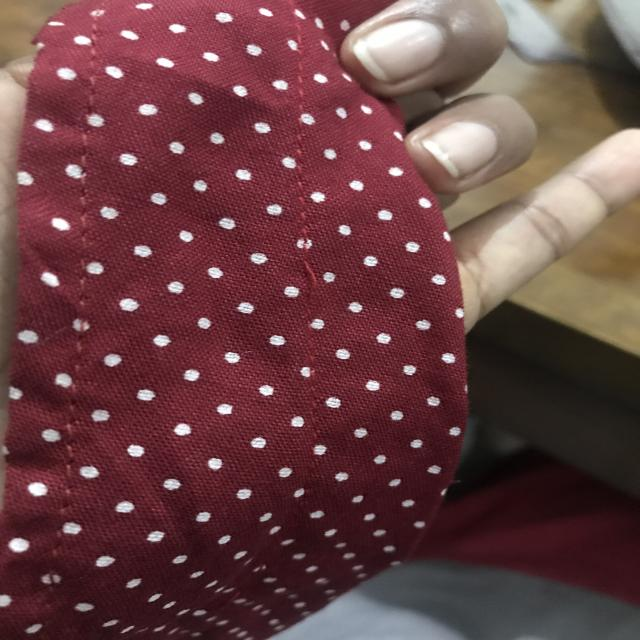skip: (273, 244, 339, 308)
